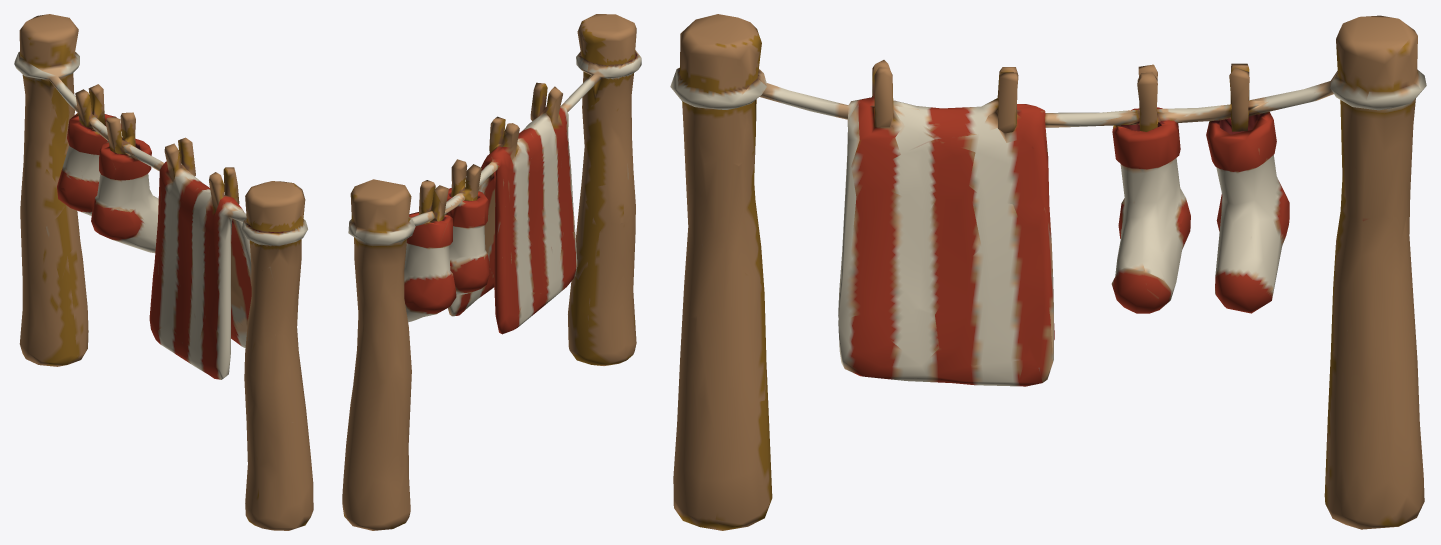
Rendered from f-washline.glb.
The picture shows the model from 3 angles, left to right: view 1: azimuth 30°, elevation 25°; view 2: azimuth 150°, elevation 25°; view 3: azimuth 270°, elevation 25°; orthographic projection. The views are drawn at different scales.
Visible parts, largest first — view 1: tripo_node_d1bd62d3-5c89-415f-af36-272365d9ec66; view 2: tripo_node_d1bd62d3-5c89-415f-af36-272365d9ec66; view 3: tripo_node_d1bd62d3-5c89-415f-af36-272365d9ec66.
Part boxes in pixels (x1=…): tripo_node_d1bd62d3-5c89-415f-af36-272365d9ec66: x1=14, y1=14, x2=313, y2=530; tripo_node_d1bd62d3-5c89-415f-af36-272365d9ec66: x1=342, y1=14, x2=641, y2=530; tripo_node_d1bd62d3-5c89-415f-af36-272365d9ec66: x1=670, y1=14, x2=1426, y2=530.
Size of the model in its own units: 0.1951 by 0.7031 by 1.
1 material, 1 textured.
